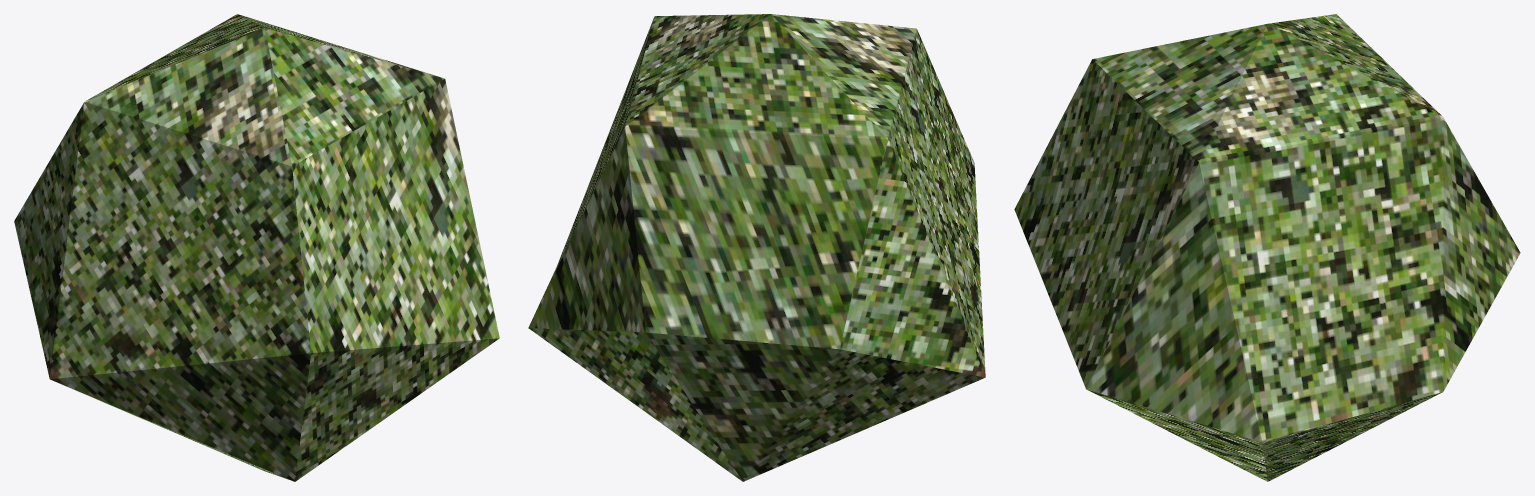
File: arbustichi.fbx
The picture shows the model from 3 angles, left to right: view 1: azimuth 30°, elevation 25°; view 2: azimuth 150°, elevation 25°; view 3: azimuth 270°, elevation 25°; orthographic projection. The views are drawn at different scales.
Parts seen in each view (by area): view 1: Cube; view 2: Cube; view 3: Cube.
Boxes of the visible parts, left/top/right/bottom form: Cube: left=14, top=14, right=499, bottom=481; Cube: left=528, top=14, right=985, bottom=481; Cube: left=1014, top=14, right=1520, bottom=481.
Size of the model in its own units: 201 by 200 by 200.
